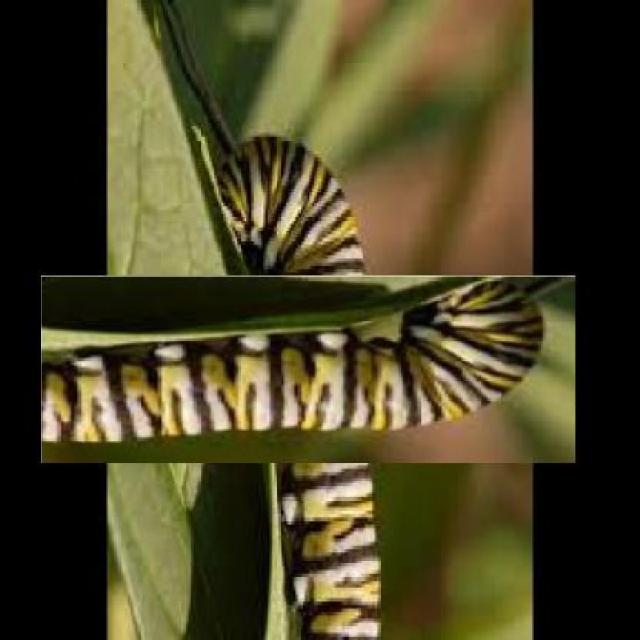Plaga: (128, 190, 491, 553)
